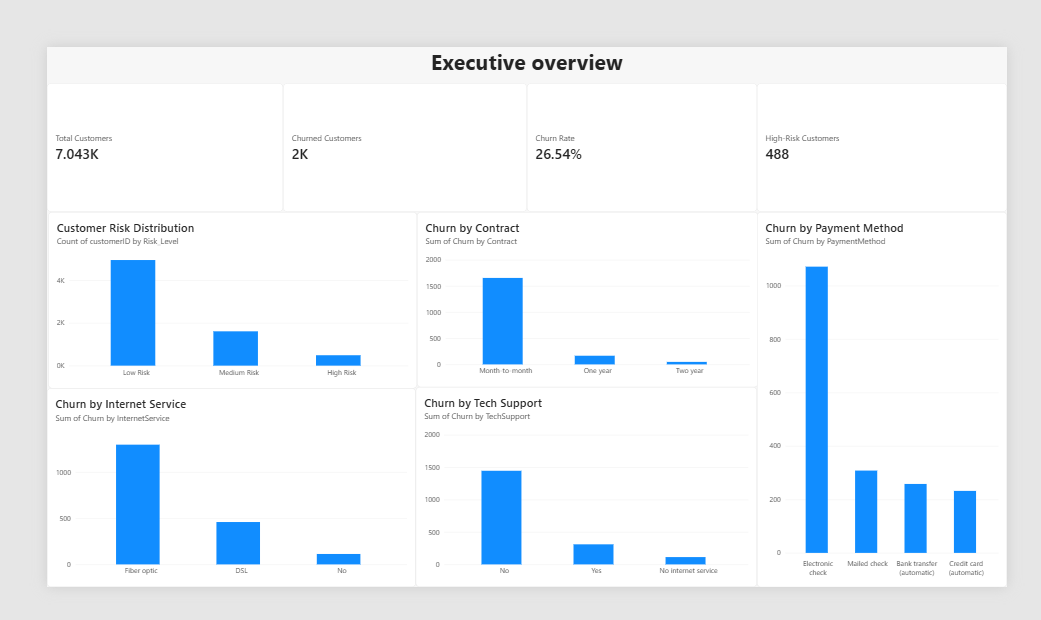

The page's visual inventory and layout, read from the dashboard file:
{"tool":"powerbi","page":{"name":"Executive Overview","canvas":[1920,1080],"ordinal":0},"visuals":[{"type":"cardVisual","fields":{"Data":["CountNonNull(customer_churn_scoring.customerID)"]},"box":[0,72.5,472.5,257.5],"z":0},{"type":"cardVisual","fields":{"Data":["Sum(customer_churn_scoring.Churn)"]},"box":[472.5,72.5,487.5,257.5],"z":1000},{"type":"cardVisual","fields":{"Data":["customer_churn_scoring.Churn Rate"]},"box":[960,72.5,460,257.5],"z":2000},{"type":"cardVisual","fields":{"Data":["CountNonNull(customer_churn_scoring.customerID)"]},"box":[1420,72.5,500,257.5],"z":3000},{"type":"textbox","box":[0,0,1920,73.3],"z":4000},{"type":"clusteredColumnChart","title":"Customer Risk Distribution","fields":{"Category":["customer_churn_scoring.Risk_Level"],"Y":["CountNonNull(customer_churn_scoring.customerID)"]},"box":[2.5,330,737.5,352.5],"z":5000},{"type":"clusteredColumnChart","title":"Churn by Contract","fields":{"Category":["customer_churn_scoring.Contract"],"Y":["Sum(customer_churn_scoring.Churn)"]},"box":[740,330,682.5,350],"z":6000},{"type":"clusteredColumnChart","title":"Churn by Internet Service","fields":{"Category":["customer_churn_scoring.InternetService"],"Y":["Sum(customer_churn_scoring.Churn)"]},"box":[0,682.5,737.5,397.5],"z":7000},{"type":"clusteredColumnChart","title":"Churn by Tech Support","fields":{"Category":["customer_churn_scoring.TechSupport"],"Y":["Sum(customer_churn_scoring.Churn)"]},"box":[737.5,680,682.5,400],"z":8000},{"type":"clusteredColumnChart","title":"Churn by Payment Method","fields":{"Category":["customer_churn_scoring.PaymentMethod"],"Y":["Sum(customer_churn_scoring.Churn)"]},"box":[1420,330,500,750],"z":9000}]}

Visuals, with their boxes on the page's 1920x1080 design canvas (x1, y1, x2, y2). These are canvas units, not pixel positions in the 1041x620 screenshot, which may show the page scaled, cropped or inside an application window:
cardVisual - CountNonNull(customer_churn_scoring.customerID): <box>0,72,472,330</box>
cardVisual - Sum(customer_churn_scoring.Churn): <box>472,72,960,330</box>
cardVisual - customer_churn_scoring.Churn Rate: <box>960,72,1420,330</box>
cardVisual - CountNonNull(customer_churn_scoring.customerID): <box>1420,72,1920,330</box>
textbox: <box>0,0,1920,73</box>
"Customer Risk Distribution" clusteredColumnChart: <box>2,330,740,682</box>
"Churn by Contract" clusteredColumnChart: <box>740,330,1422,680</box>
"Churn by Internet Service" clusteredColumnChart: <box>0,682,738,1080</box>
"Churn by Tech Support" clusteredColumnChart: <box>738,680,1420,1080</box>
"Churn by Payment Method" clusteredColumnChart: <box>1420,330,1920,1080</box>
